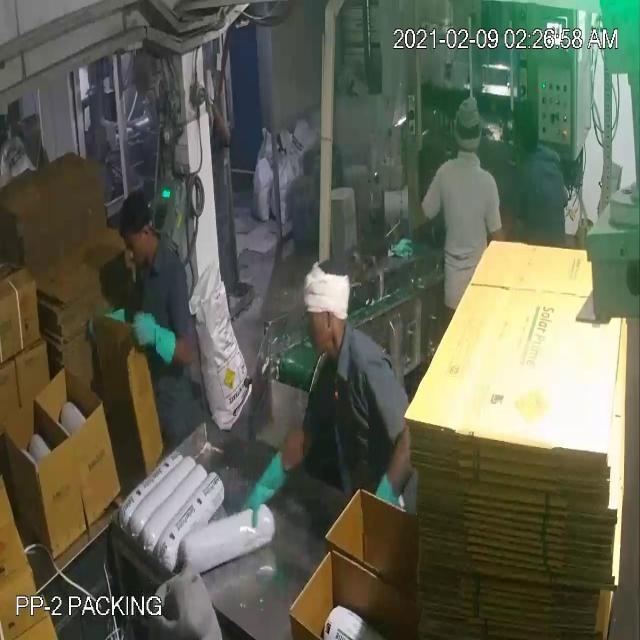Gloves: (56, 74, 264, 488)
